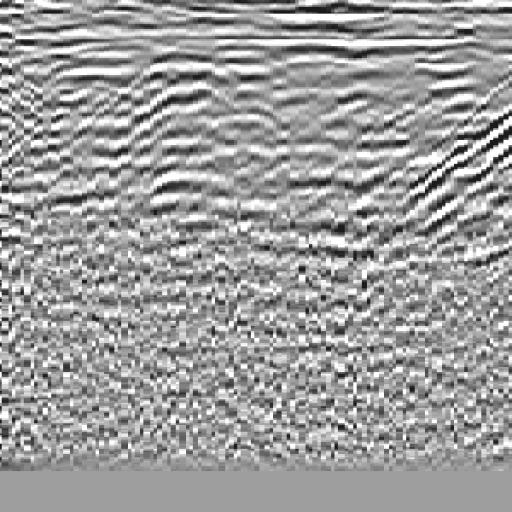metalic: (130, 46, 291, 257)
non-metallic: (383, 49, 512, 296)
